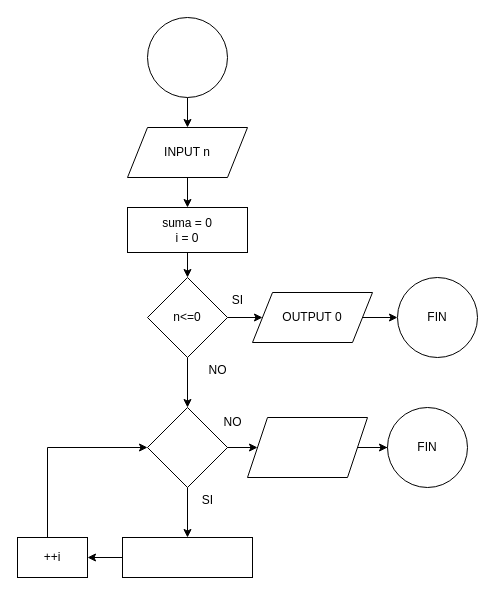
Image size: 495x595. Some labels were removed from this diagram. Each missing label, with the centre of its shape:
I<n.size(): pixel 187 447
INICIO: pixel 187 57
OUTPUT suma: pixel 307 447
suma = suma + digits: pixel 187 557
